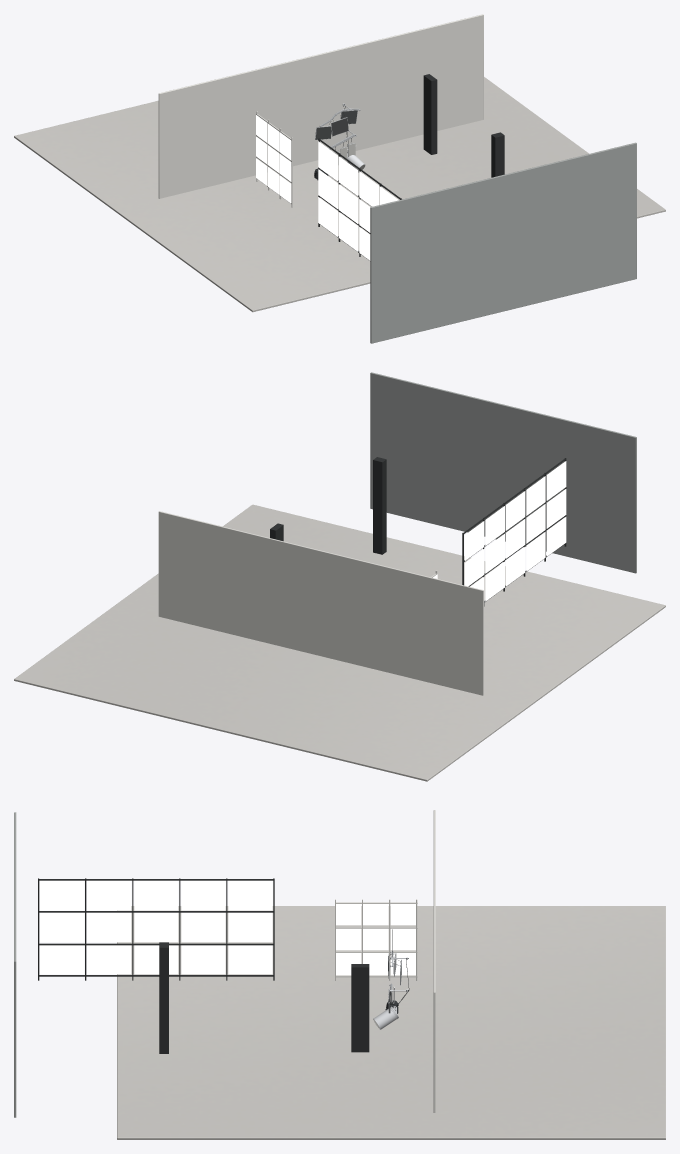
File: scene-mobile.glb
3 renders of one model, top to bottom at view 1: azimuth 30°, elevation 25°; view 2: azimuth 150°, elevation 25°; view 3: azimuth 270°, elevation 25°, orthographic. The views are drawn at different scales.
Visible parts, largest first — view 1: limestone_floor, front_plaster_return, rear_plaster_wall, dark_reflection_flag, front_architectural_column, front_room_window_-24_12, front_room_window_-24_3, front_room_window_-24_7.5, front_room_window_-18_12, front_room_window_-18_7.5, front_room_window_-18_3, front_room_window_-30_12; view 2: limestone_floor, rear_plaster_wall, front_plaster_return, front_architectural_column; view 3: limestone_floor, dark_reflection_flag, front_room_window_-18_12, front_room_window_-18_7.5, front_room_window_-24_12, front_room_window_-24_7.5, front_room_window_-30_12, front_room_window_-36_12, front_room_window_-42_12, front_room_window_-30_7.5, front_room_window_-36_7.5, front_room_window_-42_7.5 (+17 smaller).
Part boxes in pixels (left/top/right/bottom): limestone_floor: left=14, top=77, right=665, bottom=312; front_plaster_return: left=370, top=142, right=636, bottom=343; rear_plaster_wall: left=158, top=14, right=483, bottom=198; dark_reflection_flag: left=423, top=74, right=437, bottom=154; front_architectural_column: left=491, top=132, right=504, bottom=177; front_room_window_-24_12: left=338, top=156, right=358, bottom=195; front_room_window_-24_3: left=338, top=212, right=358, bottom=251; front_room_window_-24_7.5: left=338, top=184, right=358, bottom=223; front_room_window_-18_12: left=318, top=141, right=337, bottom=181; front_room_window_-18_7.5: left=318, top=169, right=337, bottom=209; front_room_window_-18_3: left=318, top=197, right=337, bottom=236; front_room_window_-30_12: left=359, top=171, right=378, bottom=206; limestone_floor: left=14, top=504, right=665, bottom=781; rear_plaster_wall: left=158, top=511, right=483, bottom=695; front_plaster_return: left=370, top=372, right=636, bottom=573; front_architectural_column: left=373, top=457, right=386, bottom=554; limestone_floor: left=117, top=906, right=665, bottom=1139; dark_reflection_flag: left=351, top=964, right=369, bottom=1052; front_room_window_-18_12: left=228, top=880, right=272, bottom=910; front_room_window_-18_7.5: left=228, top=912, right=272, bottom=942; front_room_window_-24_12: left=181, top=880, right=225, bottom=910; front_room_window_-24_7.5: left=181, top=912, right=225, bottom=942; front_room_window_-30_12: left=134, top=880, right=178, bottom=910; front_room_window_-36_12: left=87, top=880, right=131, bottom=910; front_room_window_-42_12: left=40, top=880, right=84, bottom=910; front_room_window_-30_7.5: left=134, top=912, right=178, bottom=942; front_room_window_-36_7.5: left=87, top=912, right=131, bottom=942; front_room_window_-42_7.5: left=40, top=912, right=84, bottom=942.
Bounding box in the file's own units: 70 × 22 × 83.15.
Materials: 12 (2 with a texture image).
